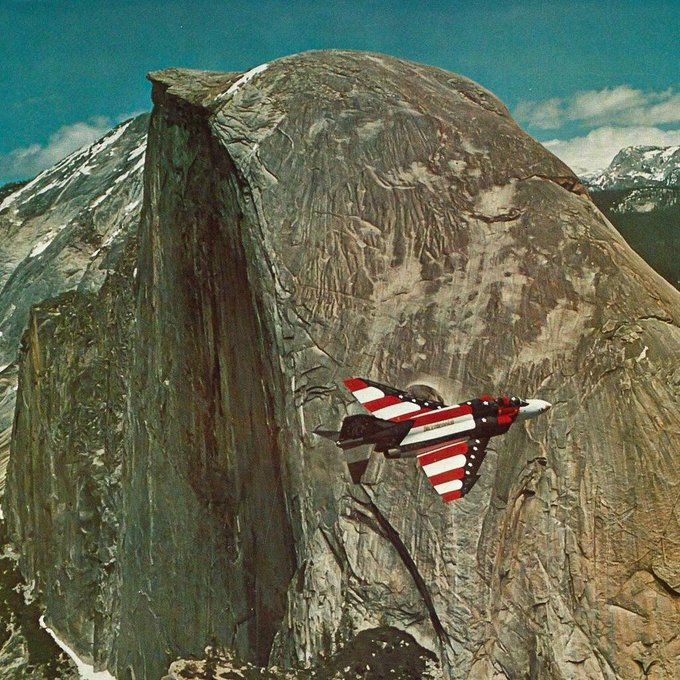F4: (310, 377, 553, 503)
